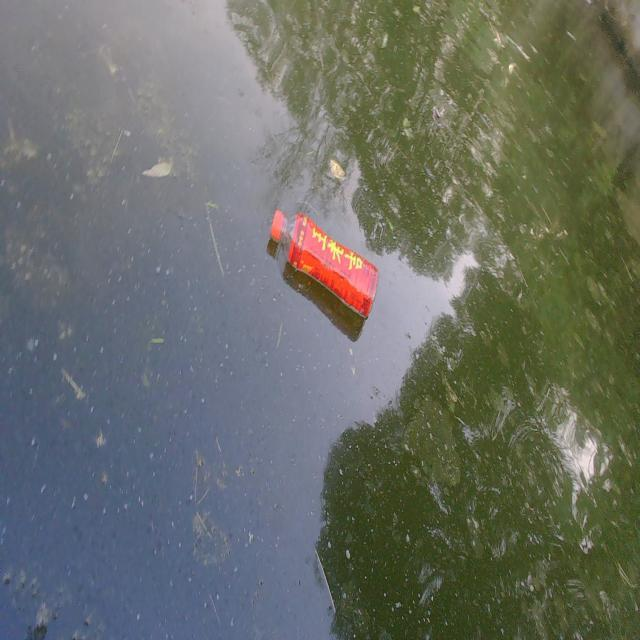bottle: (259, 201, 392, 324)
